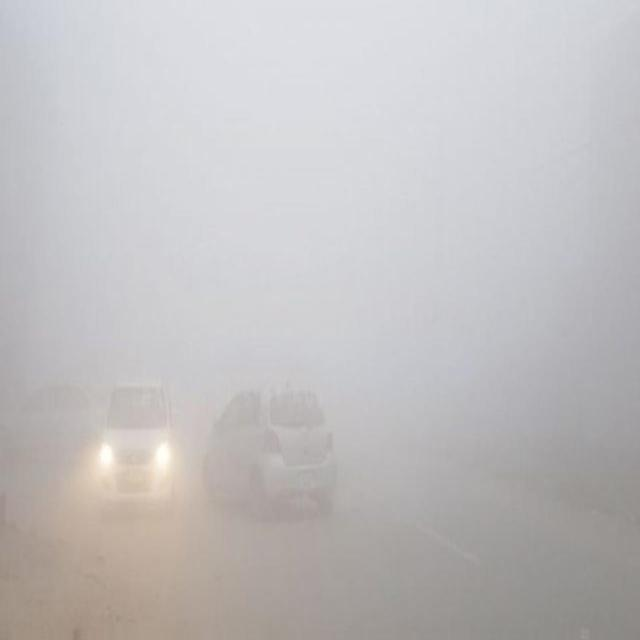Car: (200, 383, 340, 515), (98, 378, 175, 507), (3, 377, 107, 460)
